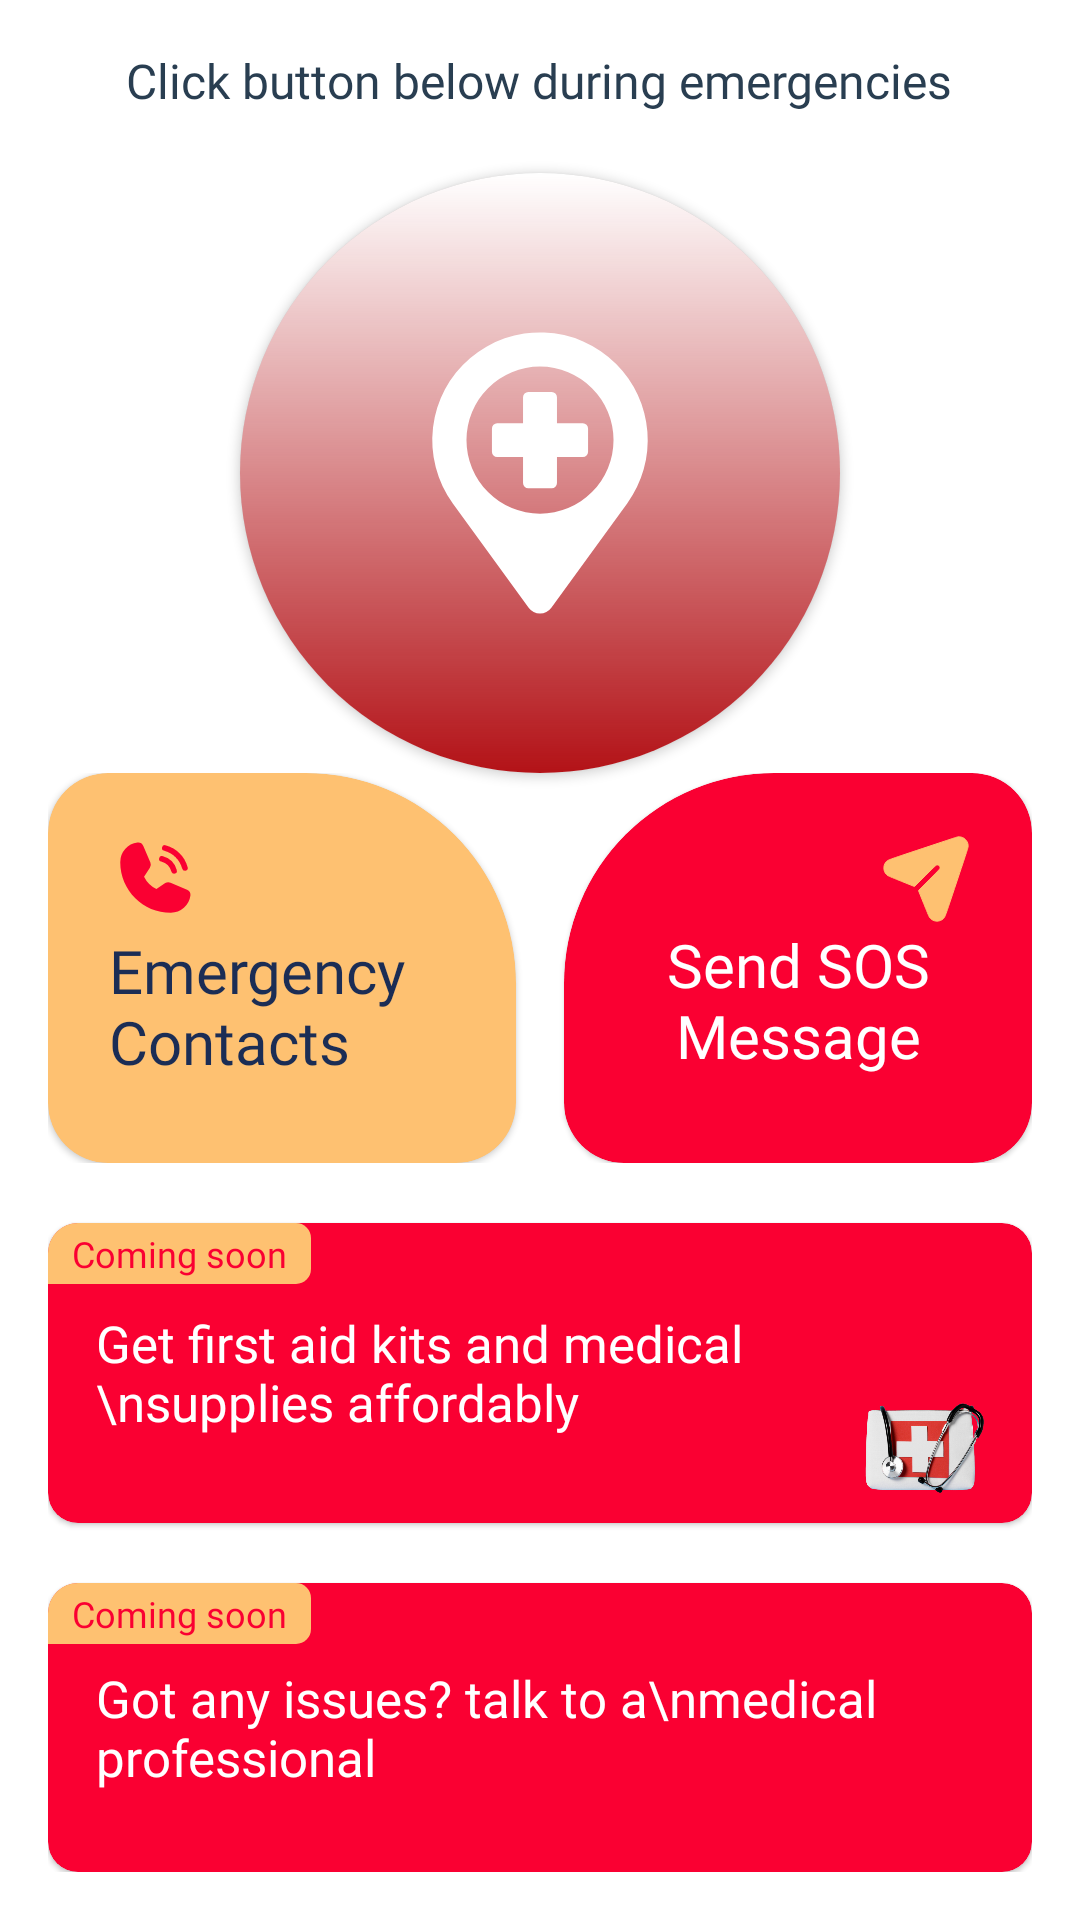

Point at icon controls on the screen. Image size 1080 x 1920, points as (x,y).
phone: (155,877)
sos: (540,473)
